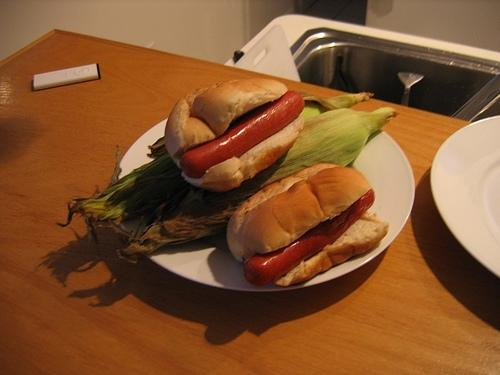corn: (56, 106, 400, 264), (147, 92, 374, 158)
